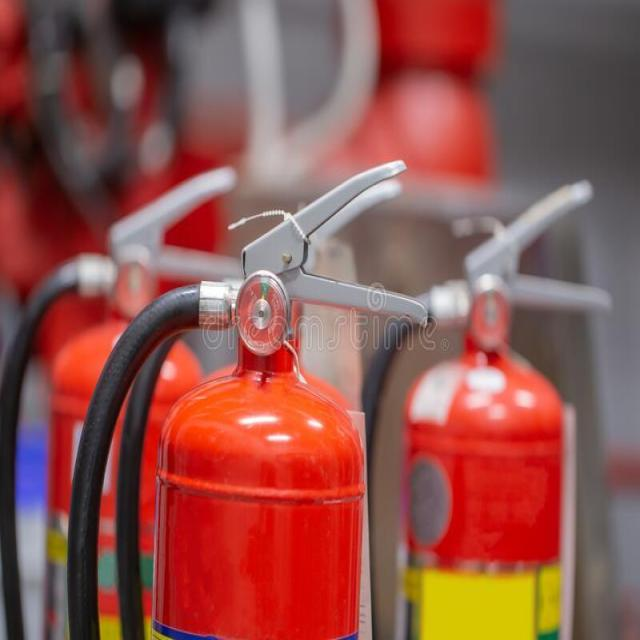fire_extinguisher: (63, 154, 434, 638), (1, 158, 258, 639), (351, 173, 616, 639)
